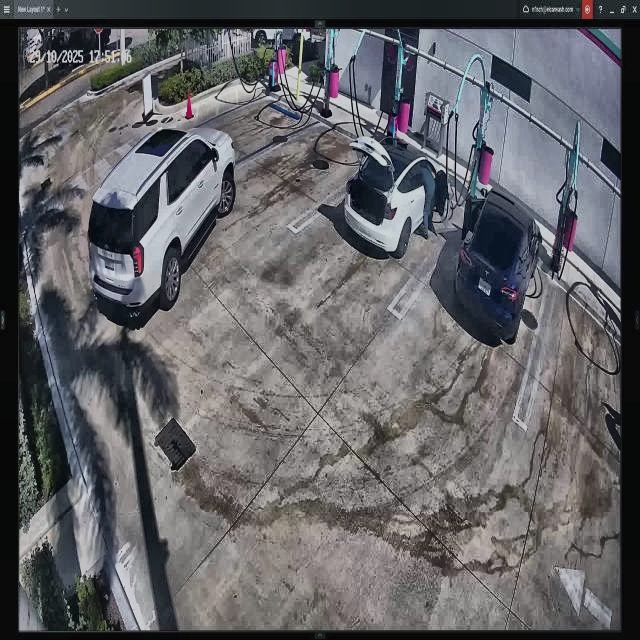Car: (89, 127, 237, 312), (344, 132, 445, 267), (458, 195, 543, 345)
